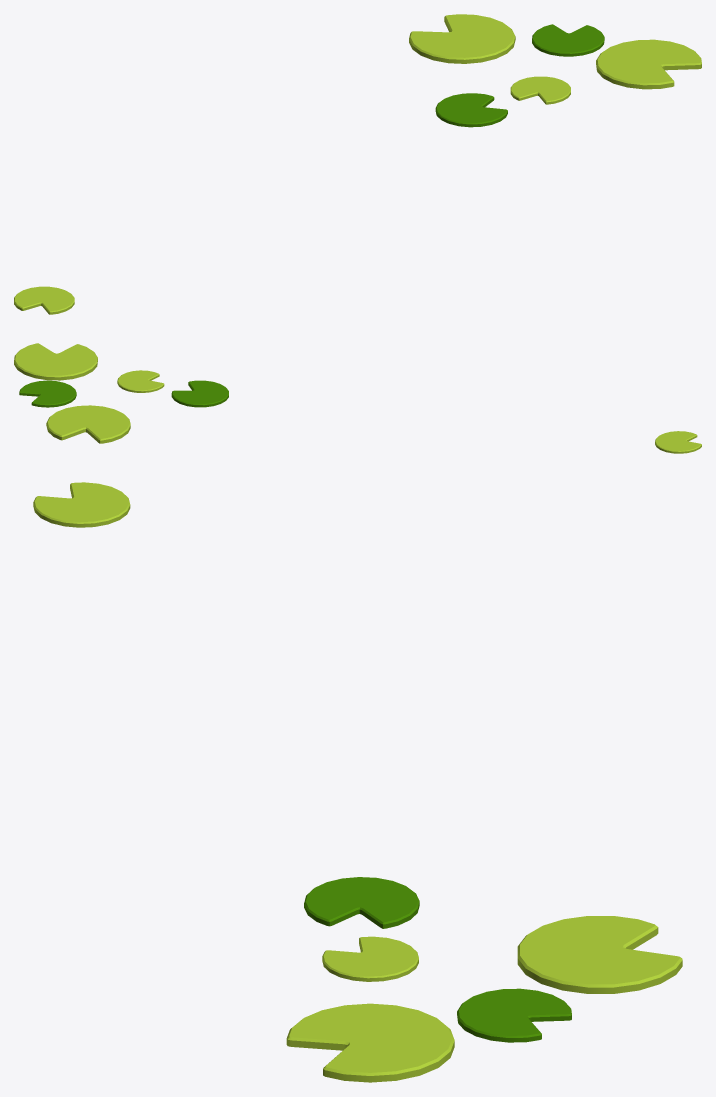
The model's file is LillyPads.glb.
3 views of the same model, one above another, from view 1: azimuth 30°, elevation 25°; view 2: azimuth 150°, elevation 25°; view 3: azimuth 270°, elevation 25° (orthographic). The views are drawn at different scales.
Visible parts, largest first — view 1: lillypad; view 2: lillypad; view 3: lillypad.
Boxes of the visible parts, <box> form: lillypad: <box>14,14,701,314</box>; lillypad: <box>14,343,701,453</box>; lillypad: <box>33,482,682,1082</box>.
Size of the model in its own units: 0.1665 by 0.00113 by 0.0769.
